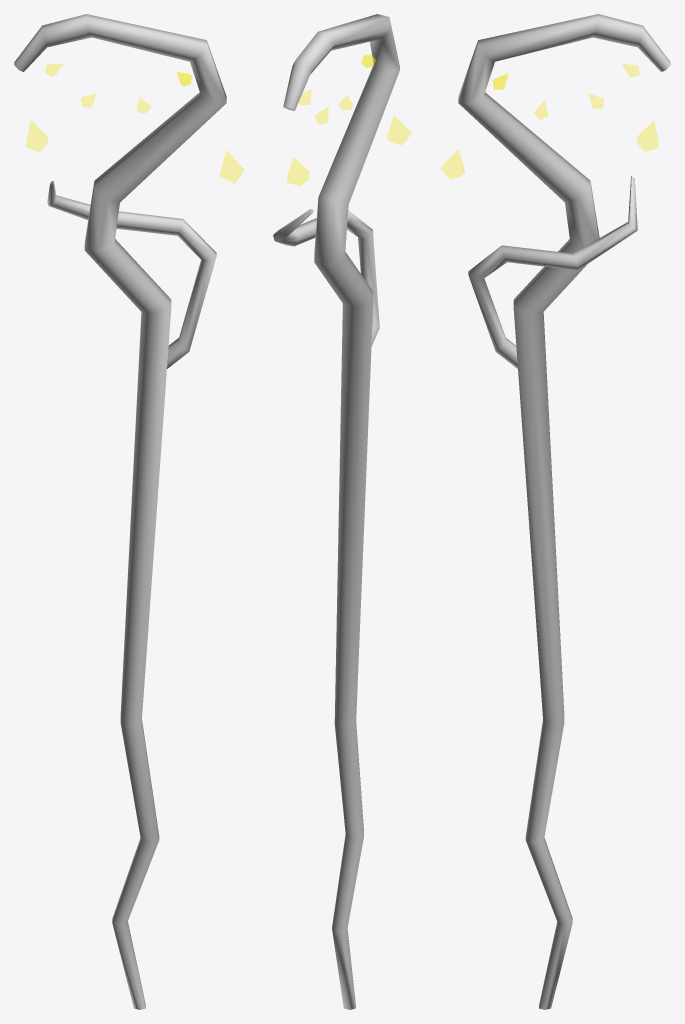
The model's file is staf_1.fbx.
3 renders of one model, left to right at view 1: azimuth 90°, elevation 25°; view 2: azimuth 150°, elevation 25°; view 3: azimuth 270°, elevation 25°, orthographic.
Visible parts, largest first — view 1: Mainbody, Side_branch; view 2: Mainbody, Side_branch, Ornament_0_3, Ornament_0_2; view 3: Mainbody, Side_branch.
Part boxes in pixels (<box>): Mainbody: <box>14,14,226,1009</box>; Side_branch: <box>47,181,216,368</box>; Mainbody: <box>283,14,399,1009</box>; Side_branch: <box>273,209,379,346</box>; Ornament_0_3: <box>387,115,411,144</box>; Ornament_0_2: <box>287,157,308,185</box>; Mainbody: <box>458,14,670,1009</box>; Side_branch: <box>468,176,637,368</box>.
Size of the model in its own units: 83.53 by 1188 by 250.
